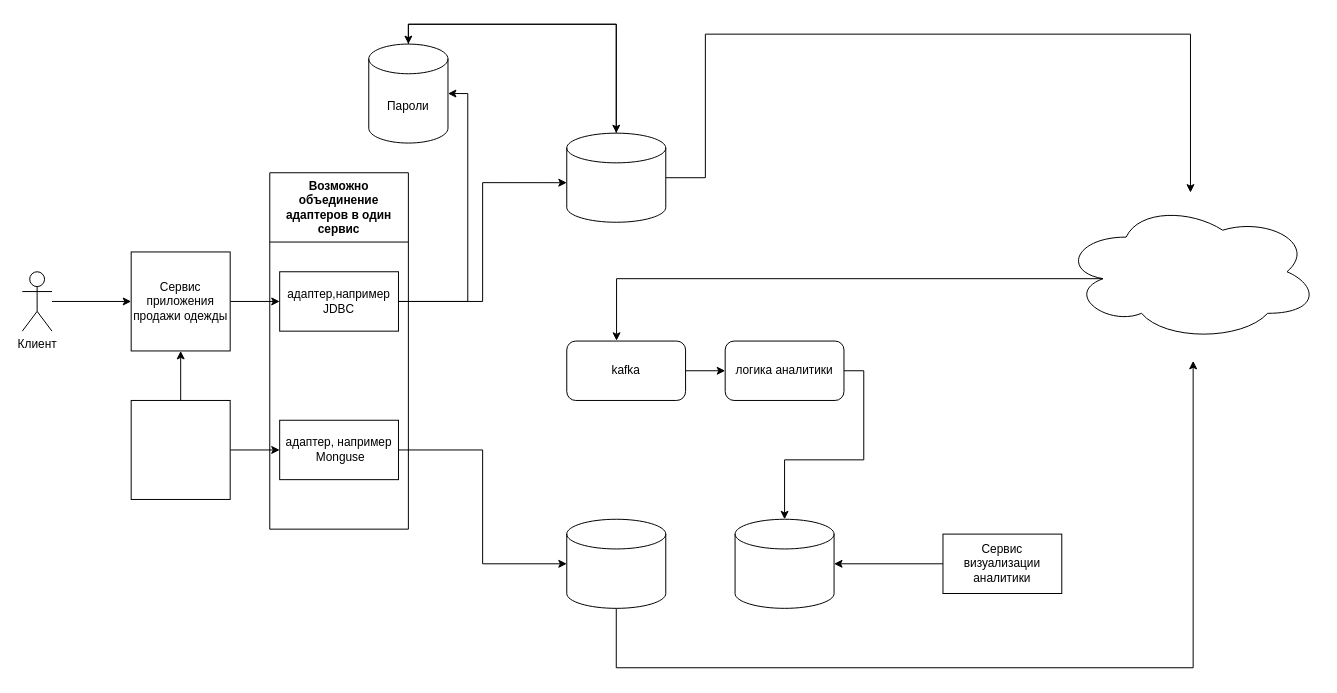
Some shapes in this 1337 by 693 pixel diagram are drawn without their labels. Here are the shapes that lost their labels. From the top down, the box of each, then its label:
(566, 132, 666, 222): Данные об клиенте postgresql
(1061, 201, 1319, 341): Озеро данных Hadoop
(130, 399, 230, 499): Сервис товаров одежды
(566, 518, 666, 608): mongodb
(734, 518, 834, 608): База аналитики
